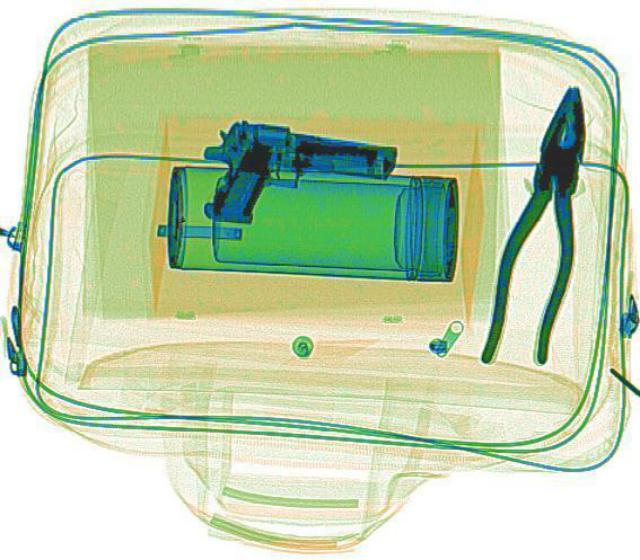Gun: (186, 111, 400, 248)
Pliers: (477, 79, 608, 369)
